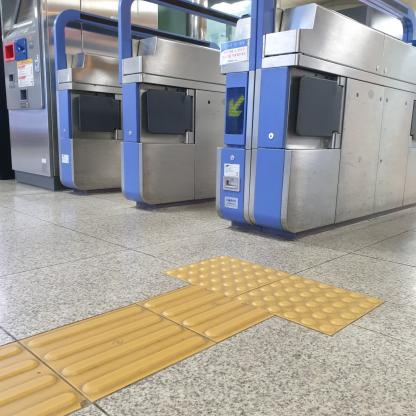go: (17, 303, 217, 403)
stop: (231, 274, 386, 336), (162, 254, 294, 298)
